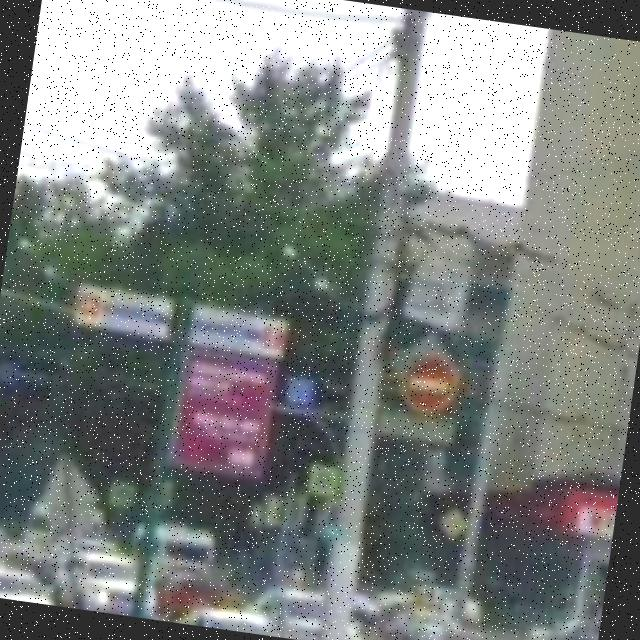Zakaz wjazdu: (396, 350, 467, 422)
